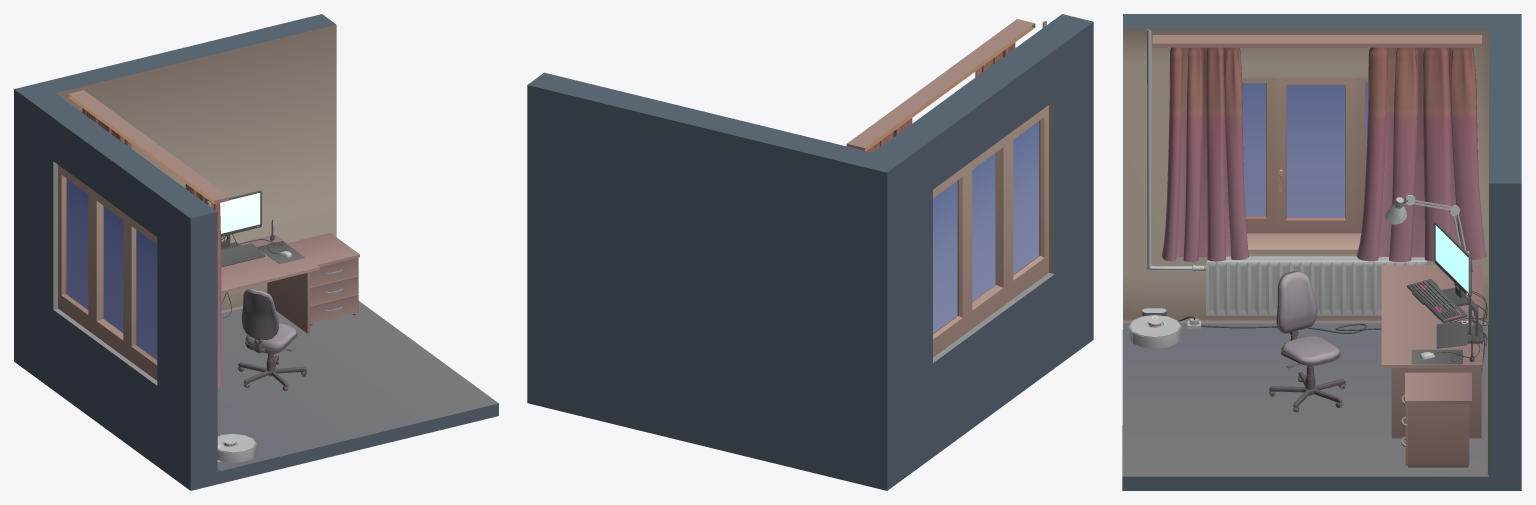
Rendered from rooom-transformed.glb.
The picture shows the model from 3 angles, left to right: view 1: azimuth 30°, elevation 25°; view 2: azimuth 150°, elevation 25°; view 3: azimuth 270°, elevation 25°; orthographic projection. The views are drawn at different scales.
Visible parts, largest first — view 1: _________6_blinn1_0, window4_phong1_0, emis_lambert1_0; view 2: _________6_blinn1_0, window4_phong1_0; view 3: _________6_blinn1_0, window4_phong1_0, emis_lambert1_0.
Part boxes in pixels (left/top/right/bottom): _________6_blinn1_0: left=14, top=14, right=498, bottom=490; window4_phong1_0: left=66, top=179, right=157, bottom=359; emis_lambert1_0: left=218, top=193, right=281, bottom=447; _________6_blinn1_0: left=527, top=14, right=1093, bottom=490; window4_phong1_0: left=933, top=121, right=1039, bottom=333; _________6_blinn1_0: left=1122, top=14, right=1521, bottom=490; window4_phong1_0: left=1242, top=82, right=1368, bottom=217; emis_lambert1_0: left=1152, top=225, right=1468, bottom=353.
Size of the model in its own units: 6.68 by 5.66 by 6.65.
